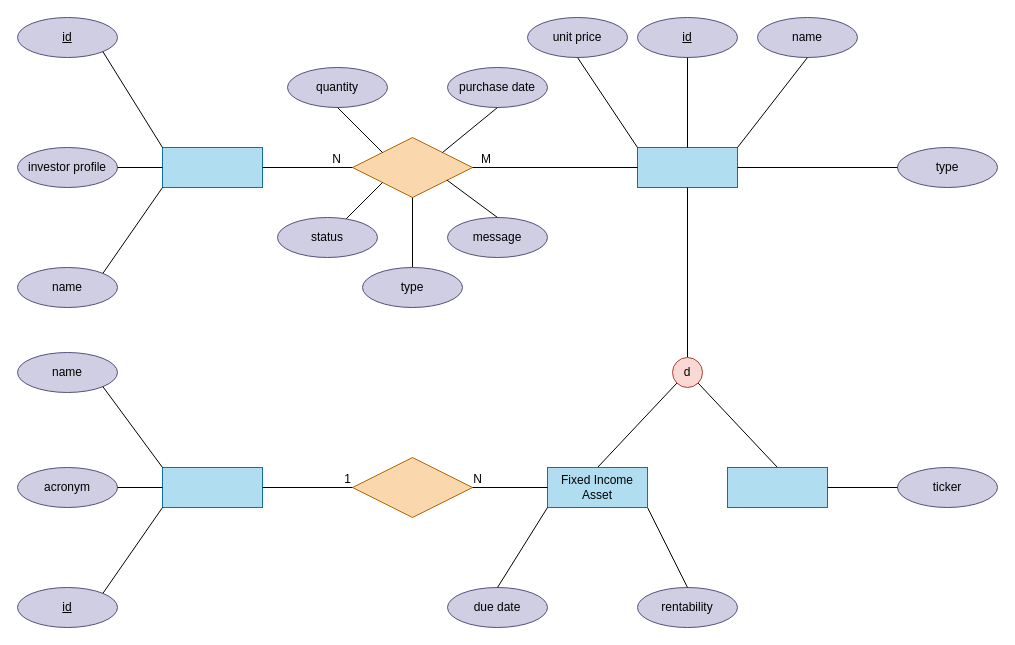
This 1015x645 diagram has some shape labels left out. The centre of each missing label's shape, as x and y in pixels:
"Asset" belongs at [687,167].
"based on" belongs at [412,487].
"Index" belongs at [212,487].
"invests" belongs at [412,167].
"User" belongs at [212,167].
"Variable Income Asset" belongs at [777,487].
